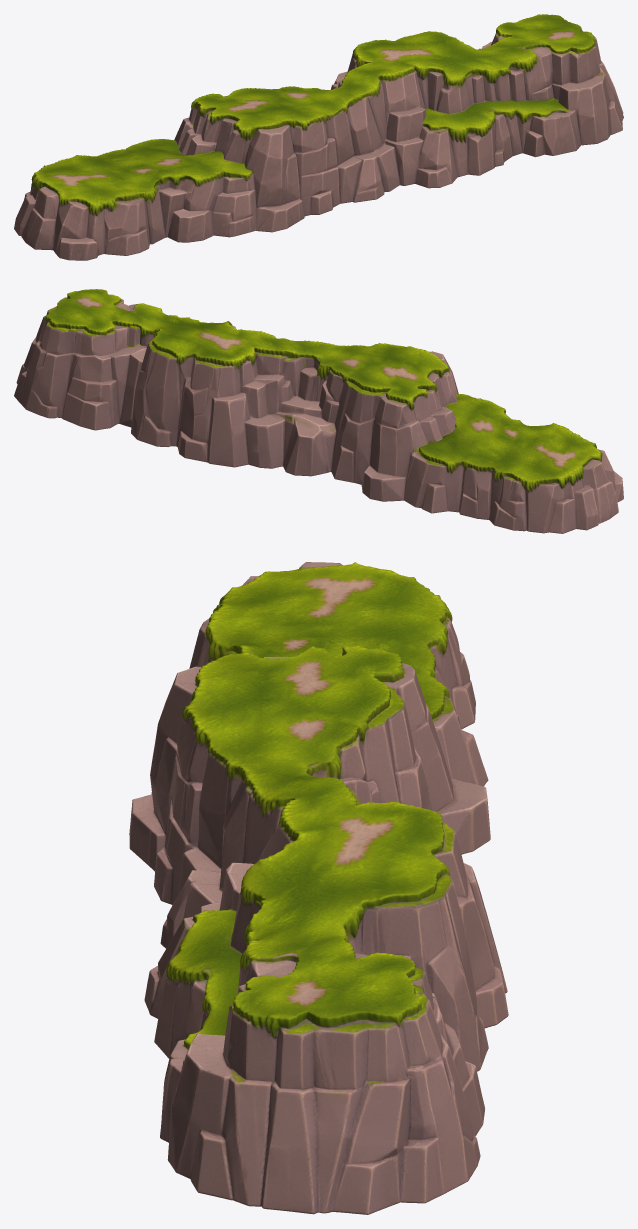
The model's file is 13-ridge-long.glb.
The picture shows the model from 3 angles, top to bottom: view 1: azimuth 30°, elevation 25°; view 2: azimuth 150°, elevation 25°; view 3: azimuth 270°, elevation 25°; orthographic projection. The views are drawn at different scales.
Bounding box in the file's own units: 1.9 × 0.2872 × 0.5346.
1 material, 1 textured.
